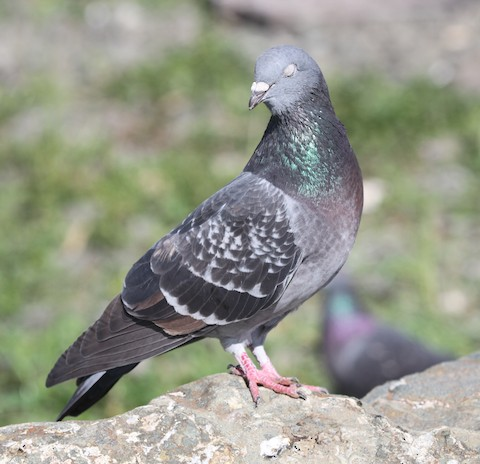pigeon: (41, 42, 369, 429)
